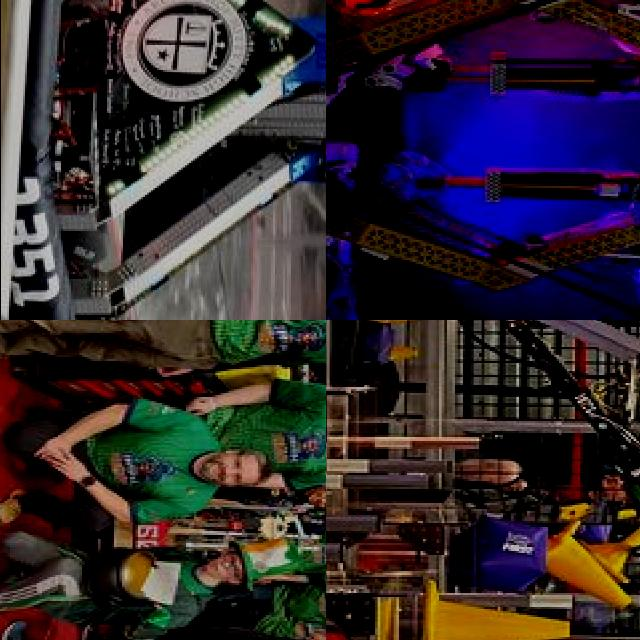FRC-Robots: (0, 0, 326, 320), (326, 320, 640, 613), (326, 138, 640, 320), (326, 0, 640, 150), (123, 452, 326, 586)
